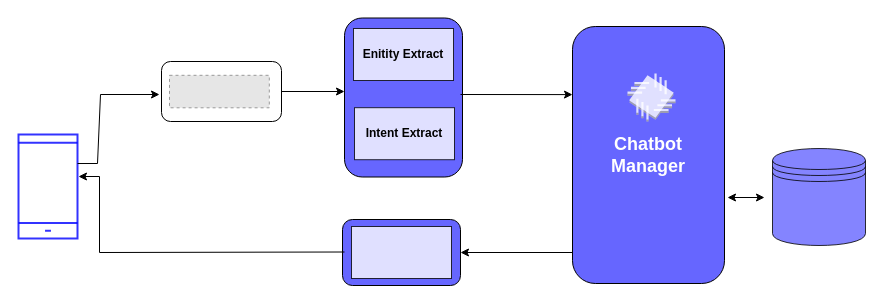
The diagram is 883 pixels wide and 303 high, and some of its shapes have lost their labels. Grey dashed boxes stand in for pictures. The centre of each missing label's shape, as x and y in pixels:
DataBase: the point at 819,197
Template generator: the point at 401,252
